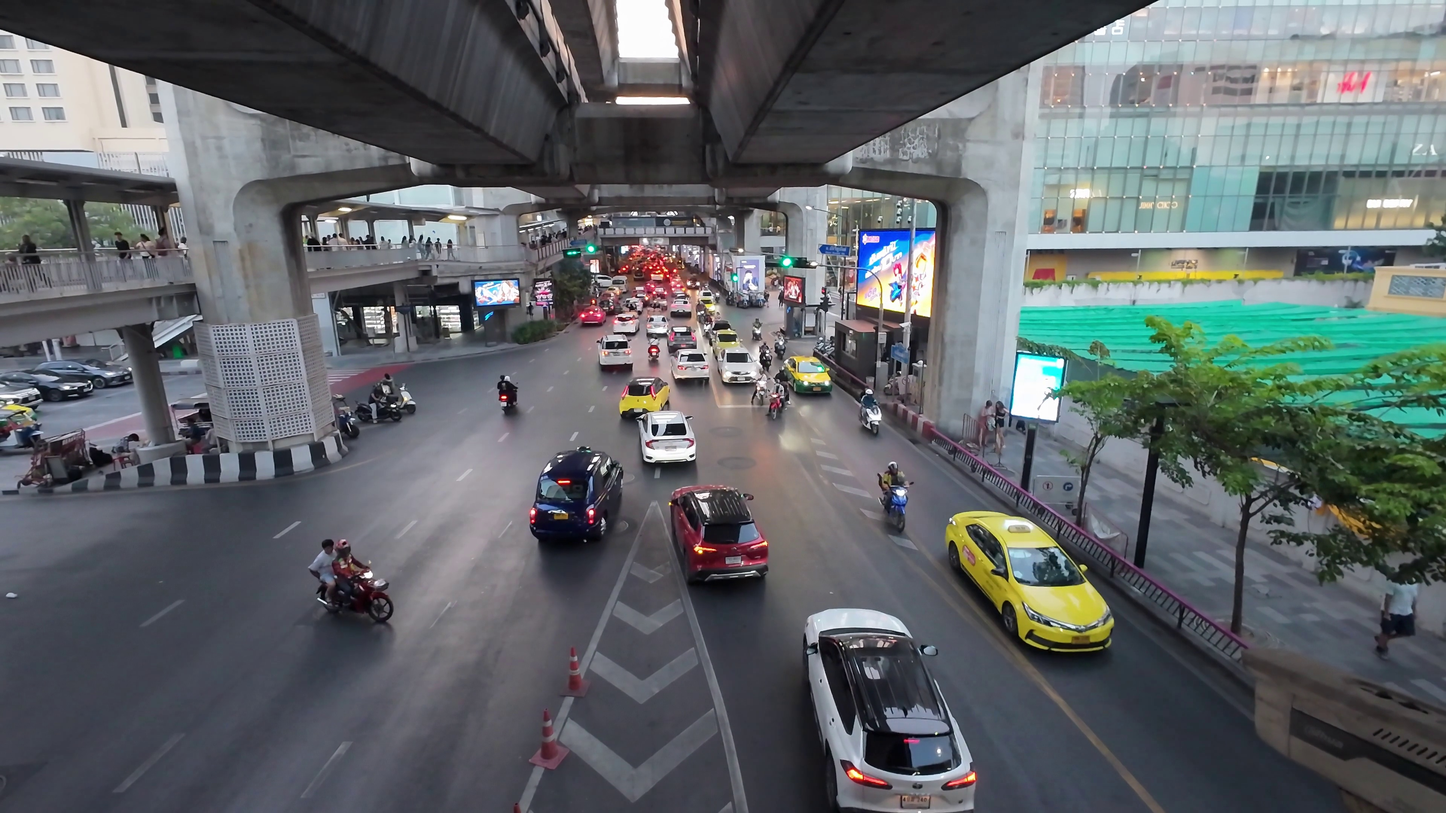license_plate: (847, 728, 935, 793), (989, 598, 1074, 645), (692, 544, 743, 577), (551, 505, 600, 537), (330, 600, 372, 620), (653, 446, 682, 464), (371, 410, 401, 422), (632, 403, 658, 416), (728, 373, 749, 385), (608, 345, 626, 354)
motorcycle: (309, 542, 393, 624), (356, 375, 416, 424)
no_seatbelt: (829, 637, 953, 738), (972, 534, 1091, 606), (682, 499, 754, 550), (541, 460, 610, 510), (647, 420, 688, 449), (627, 384, 664, 405), (724, 356, 754, 375), (604, 332, 630, 346)
